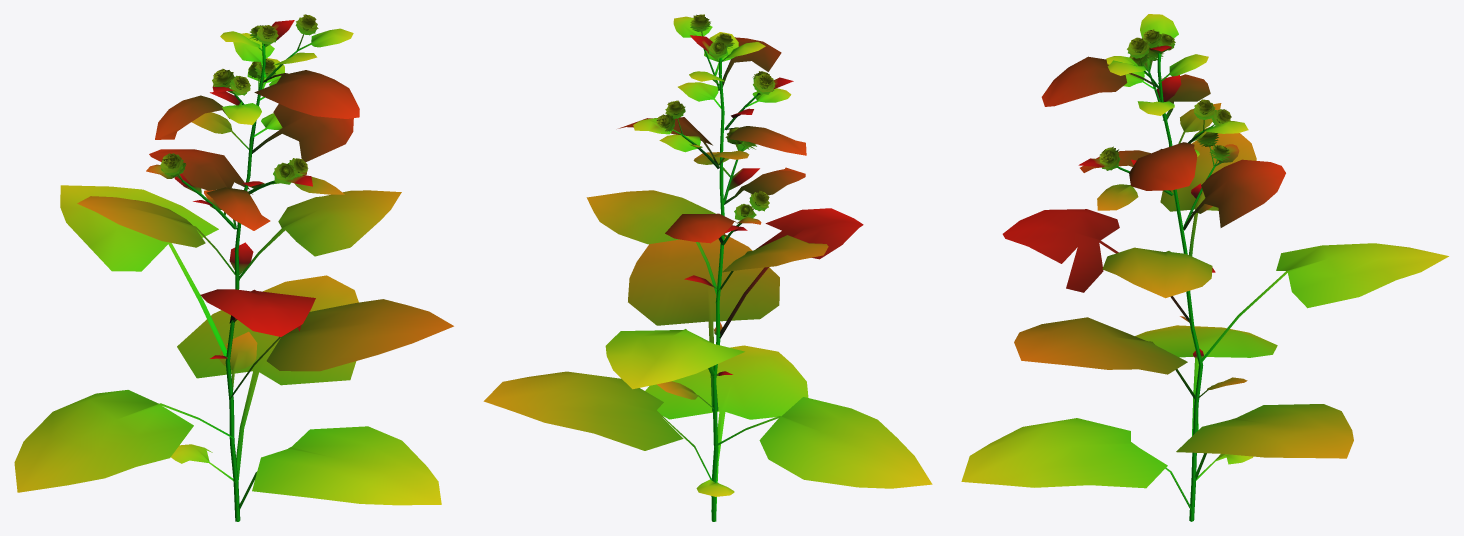
The model's file is Greater Burdock_LOD2_Var2_xh5pdgiqx.fbx.
The picture shows the model from 3 angles, left to right: view 1: azimuth 30°, elevation 25°; view 2: azimuth 150°, elevation 25°; view 3: azimuth 270°, elevation 25°; orthographic projection. The views are drawn at different scales.
Visible parts, largest first — view 1: _kb0b_Var2_LOD2; view 2: _kb0b_Var2_LOD2; view 3: _kb0b_Var2_LOD2.
Part boxes in pixels (<box>): _kb0b_Var2_LOD2: <box>14,14,453,521</box>; _kb0b_Var2_LOD2: <box>483,14,932,521</box>; _kb0b_Var2_LOD2: <box>961,14,1448,521</box>.
Size of the model in its own units: 76.32 by 93.94 by 82.8.
